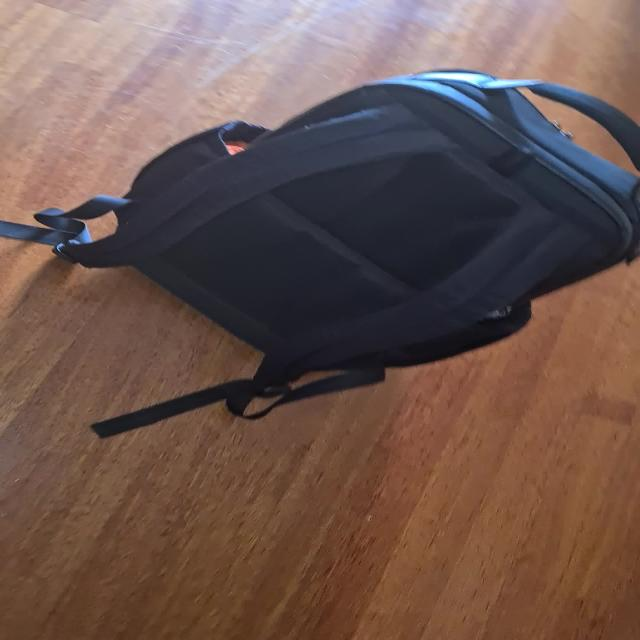backpack: (81, 59, 640, 375)
